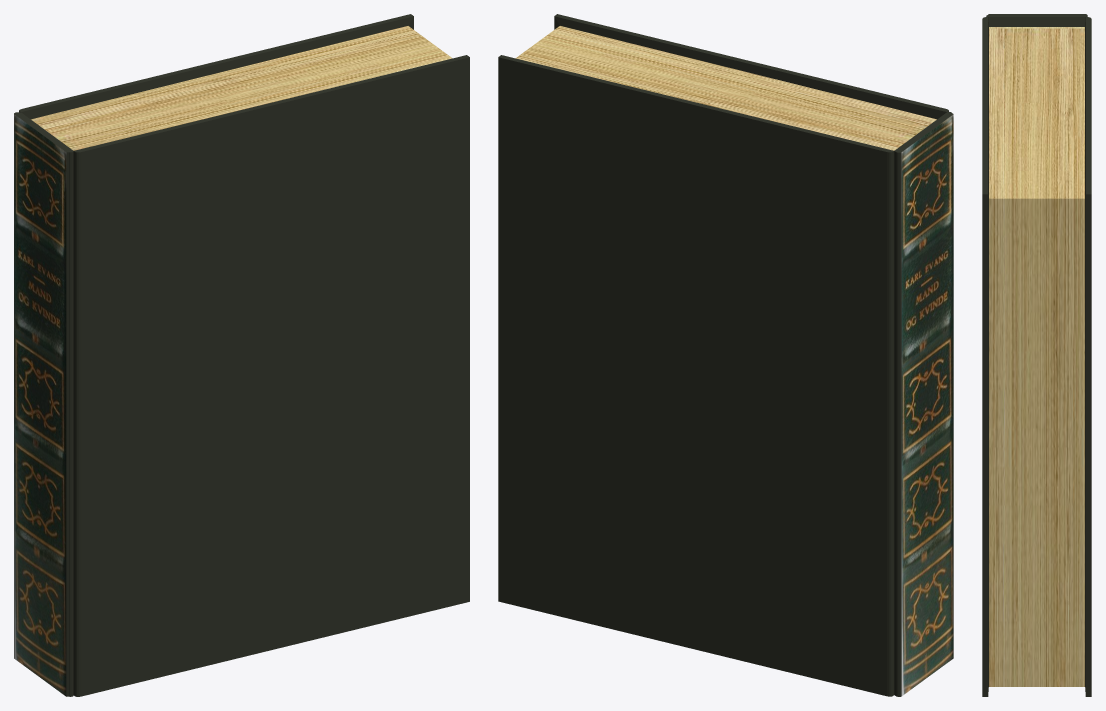
The model's file is 5kniga 1untitled.fbx.
3 renders of one model, left to right at view 1: azimuth 30°, elevation 25°; view 2: azimuth 150°, elevation 25°; view 3: azimuth 270°, elevation 25°, orthographic. The views are drawn at different scales.
Visible parts, largest first — view 1: Cube.003; view 2: Cube.003; view 3: Cube.003.
Boxes of the visible parts, x1,y1,x2,y2 form: Cube.003: [14, 14, 469, 696]; Cube.003: [498, 14, 953, 696]; Cube.003: [982, 14, 1091, 696].
Bounding box in the file's own units: 8.73 × 11.36 × 2.23.
